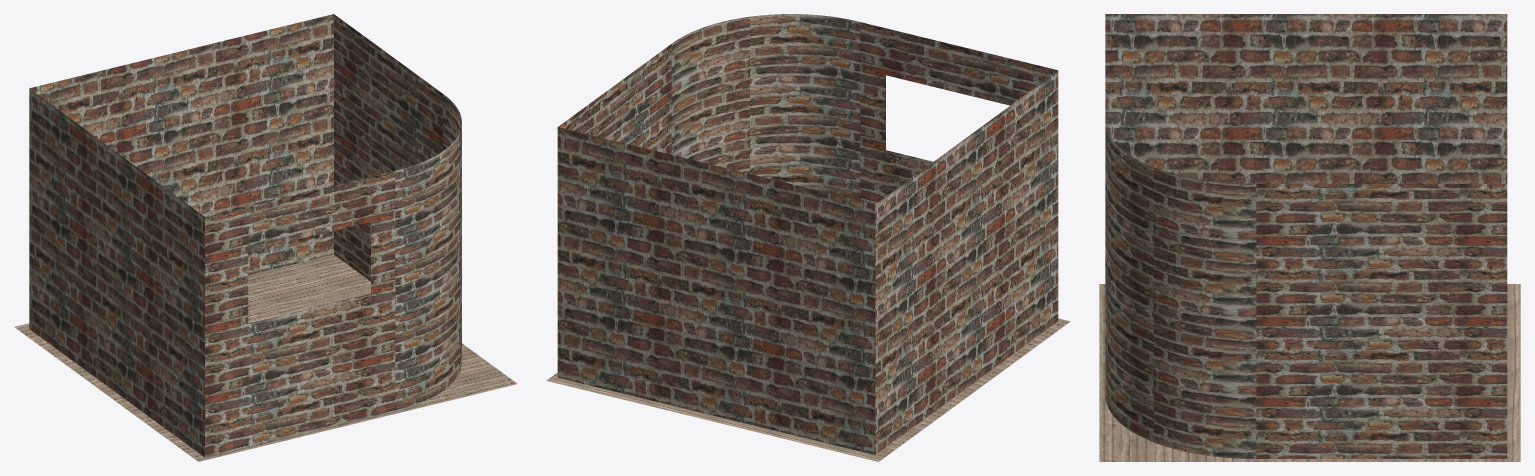
File: forge1.2b.FBX
The picture shows the model from 3 angles, left to right: view 1: azimuth 30°, elevation 25°; view 2: azimuth 150°, elevation 25°; view 3: azimuth 270°, elevation 25°; orthographic projection. The views are drawn at different scales.
Parts seen in each view (by area): view 1: Walls, Floor; view 2: Walls, Floor; view 3: Walls, Floor.
Boxes of the visible parts, <box> form: Walls: <box>29,14,461,457</box>; Floor: <box>14,254,517,461</box>; Walls: <box>557,14,1058,454</box>; Floor: <box>546,318,1070,461</box>; Walls: <box>1105,14,1507,458</box>; Floor: <box>1099,284,1520,461</box>.
Size of the model in its own units: 150 by 108 by 150.
Materials: 2 (2 with a texture image).
